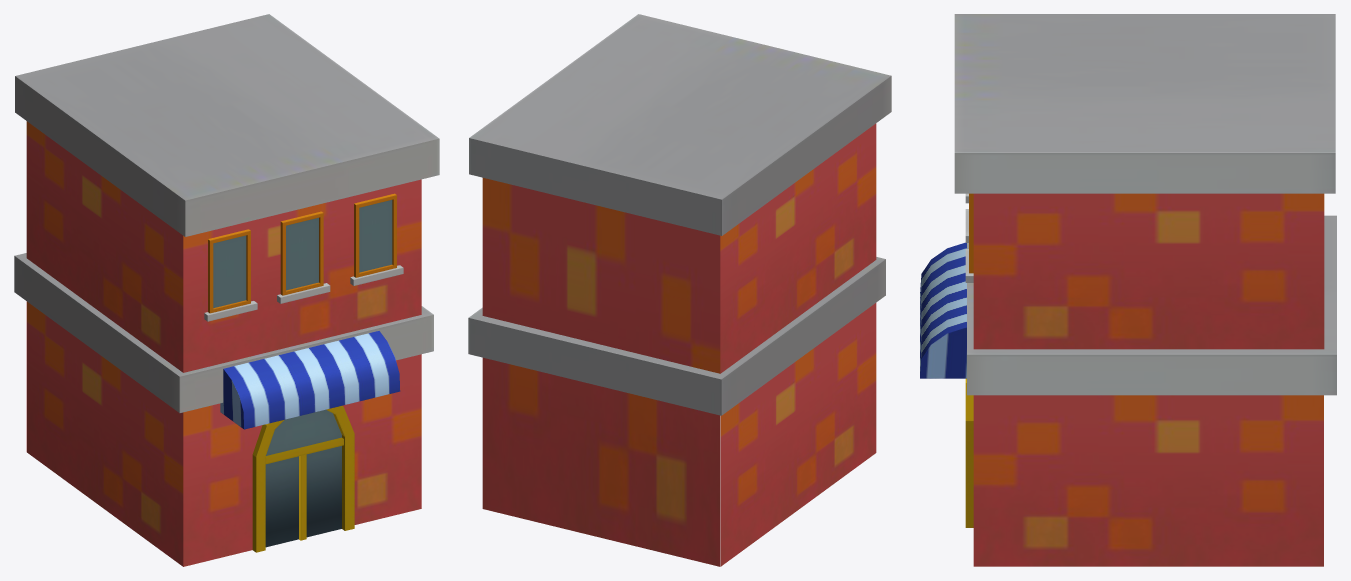
File: nha_do.fbx
3 renders of one model, left to right at view 1: azimuth 30°, elevation 25°; view 2: azimuth 150°, elevation 25°; view 3: azimuth 270°, elevation 25°, orthographic. The views are drawn at different scales.
Visible parts, largest first — view 1: nha_do; view 2: nha_do; view 3: nha_do.
Boxes of the visible parts, x1,y1,x2,y2 form: nha_do: (14, 14, 439, 566); nha_do: (468, 14, 891, 566); nha_do: (920, 14, 1336, 566).
Size of the model in its own units: 973 by 1369 by 1235.
